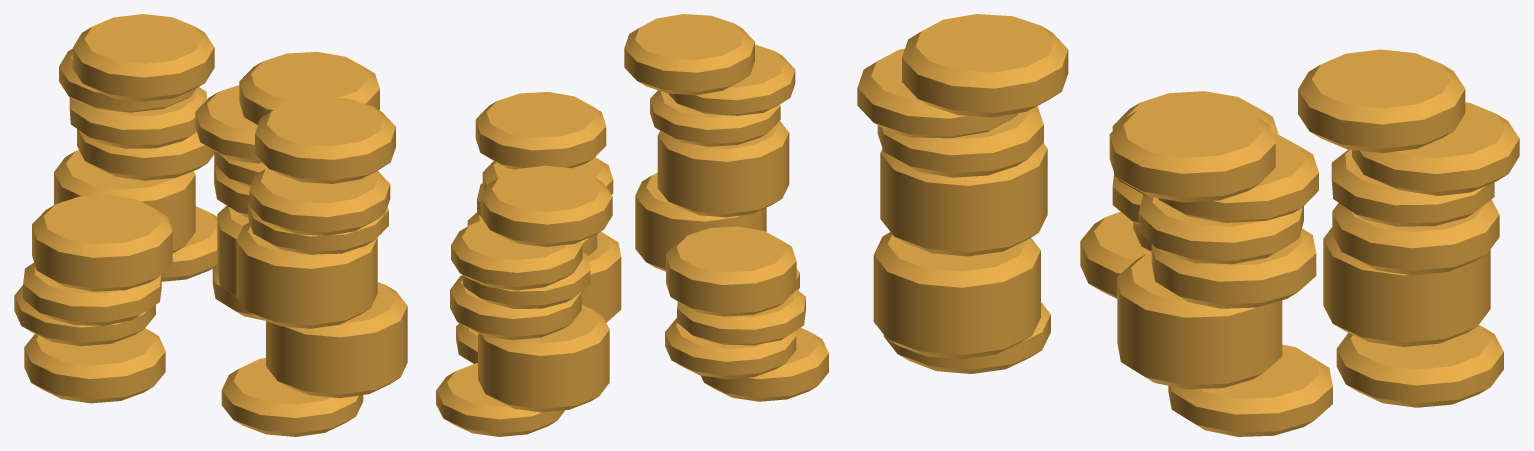
File: coins.glb
The picture shows the model from 3 angles, left to right: view 1: azimuth 30°, elevation 25°; view 2: azimuth 150°, elevation 25°; view 3: azimuth 270°, elevation 25°; orthographic projection. The views are drawn at different scales.
Parts seen in each view (by area): view 1: Prop_Coins; view 2: Prop_Coins; view 3: Prop_Coins.
Boxes of the visible parts, x1,y1,x2,y2 form: Prop_Coins: [14, 14, 407, 436]; Prop_Coins: [436, 14, 828, 436]; Prop_Coins: [857, 14, 1519, 436].
Bounding box in the file's own units: 0.5975 × 0.45 × 0.8314.
Materials: 1 (1 with a texture image).
